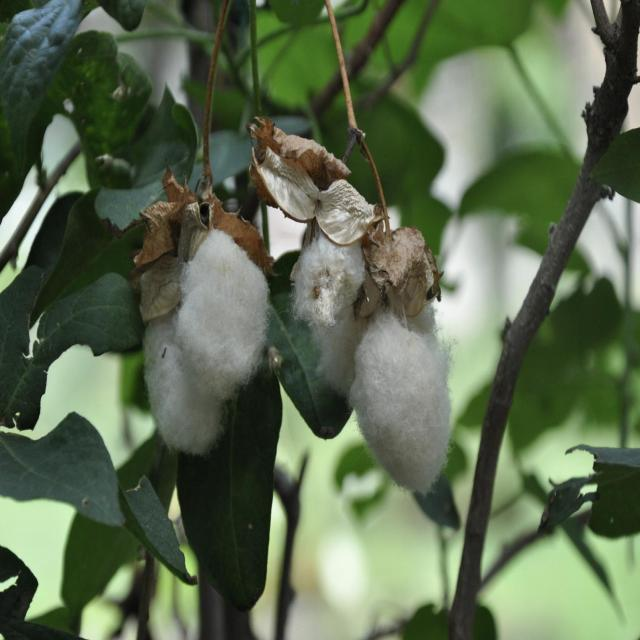Early_blight: (236, 109, 463, 514), (119, 164, 286, 487)
